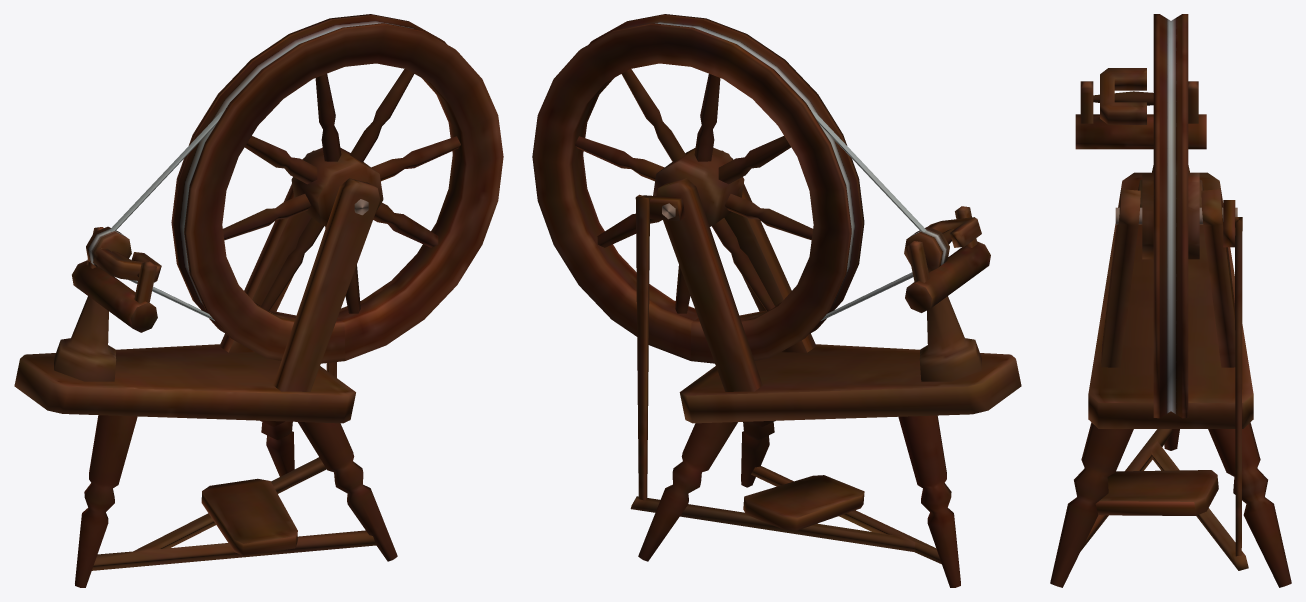
3 views of the same model, side by side, from view 1: azimuth 30°, elevation 25°; view 2: azimuth 150°, elevation 25°; view 3: azimuth 270°, elevation 25° (orthographic). The views are drawn at different scales.
Size of the model in its own units: 9.45 by 9.72 by 3.84.
Materials: 1 (1 with a texture image).
